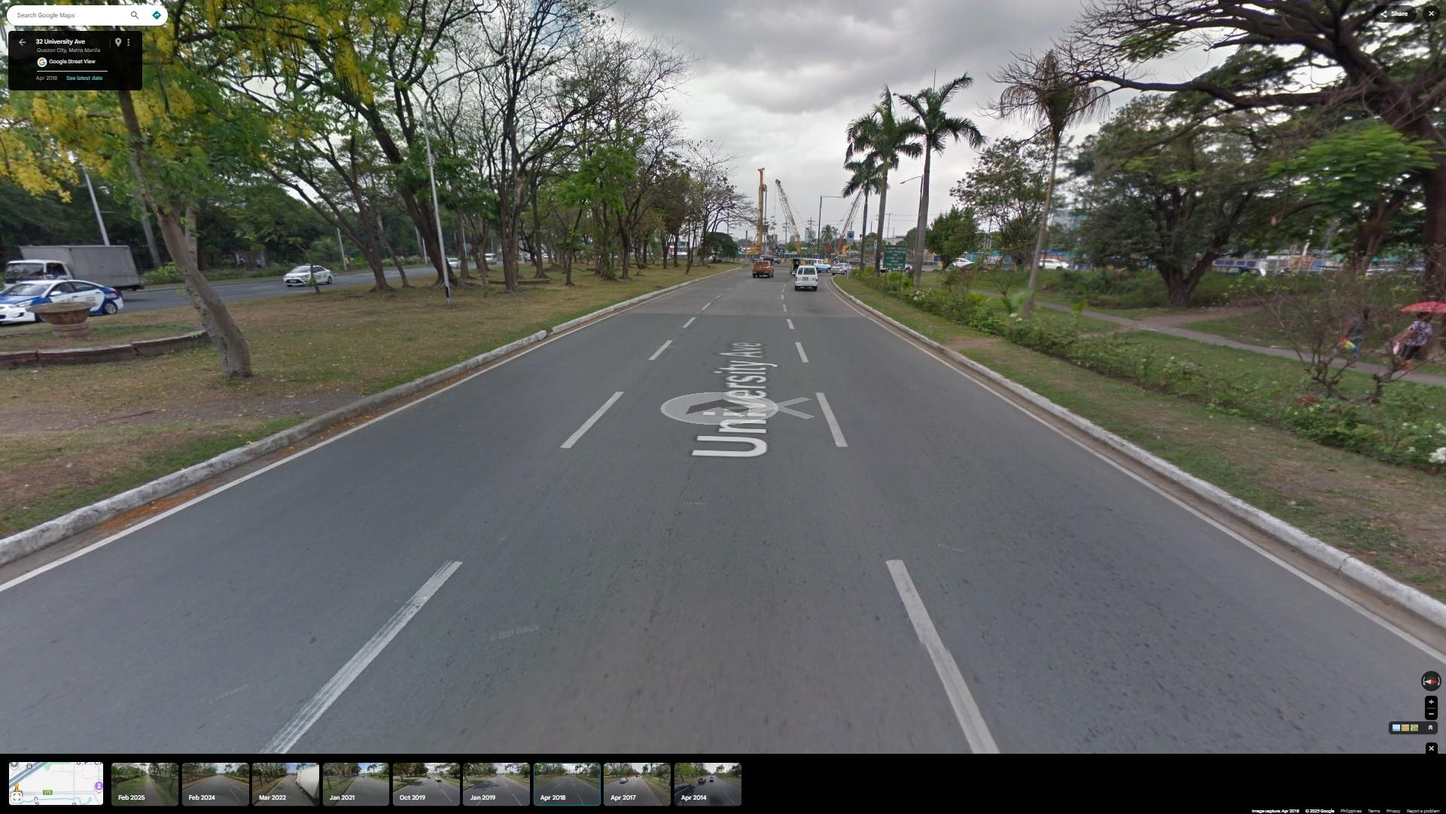pedestrian: (1379, 304, 1433, 377), (1318, 303, 1374, 370)
